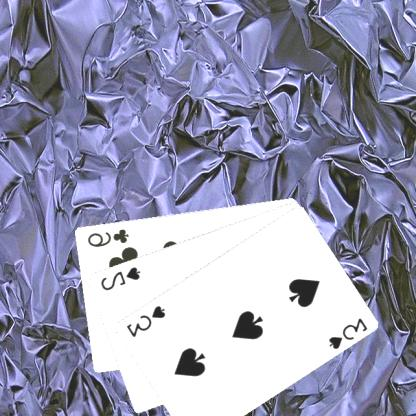2S: (99, 263, 144, 292)
3S: (125, 302, 169, 339), (326, 315, 370, 351)
9C: (86, 226, 132, 248)
